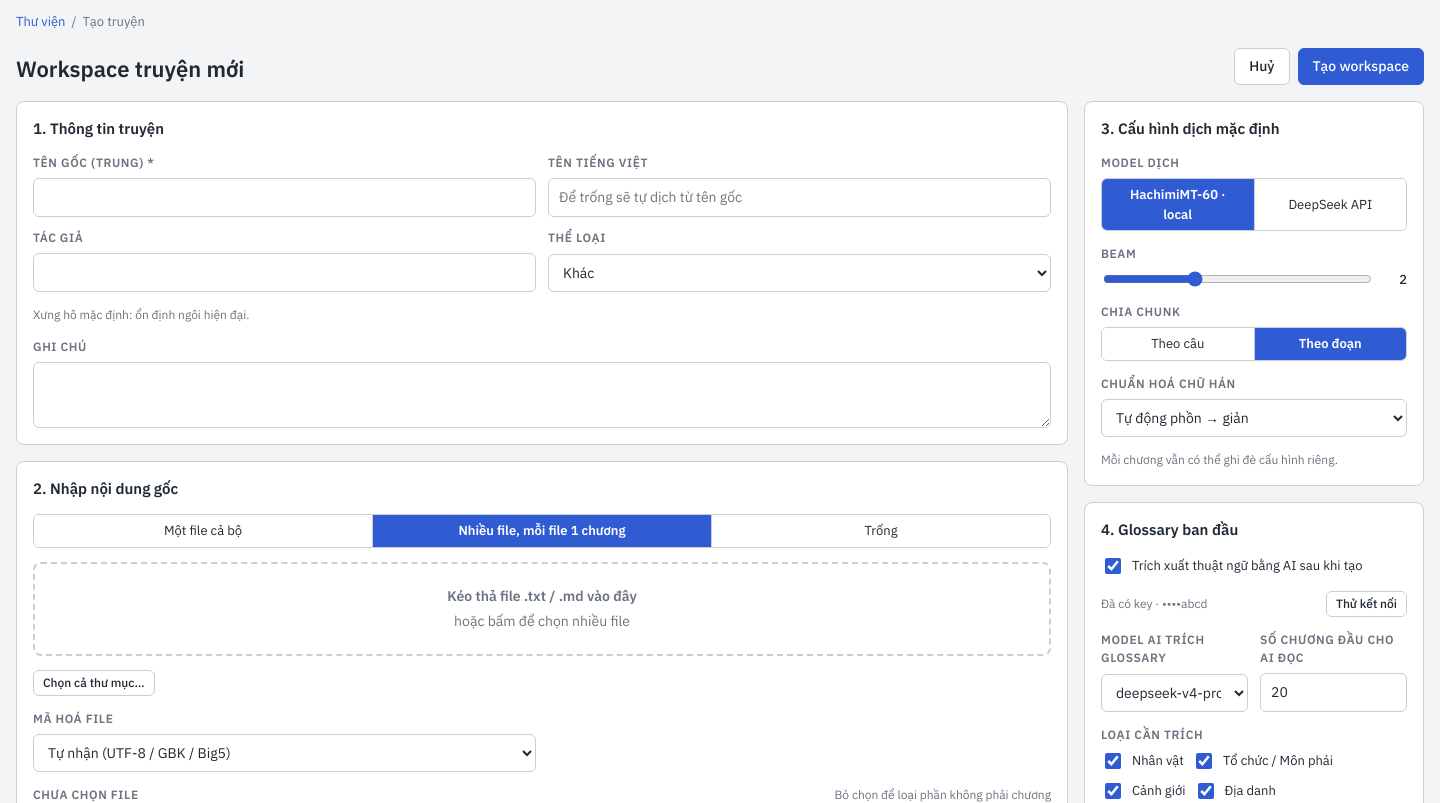
Thử kết nối với key sai báo lỗi 401 rõ ràng (AC-4.6)
Click the button "Thử kết nối": [1366, 604] box [1326,591,1407,617]
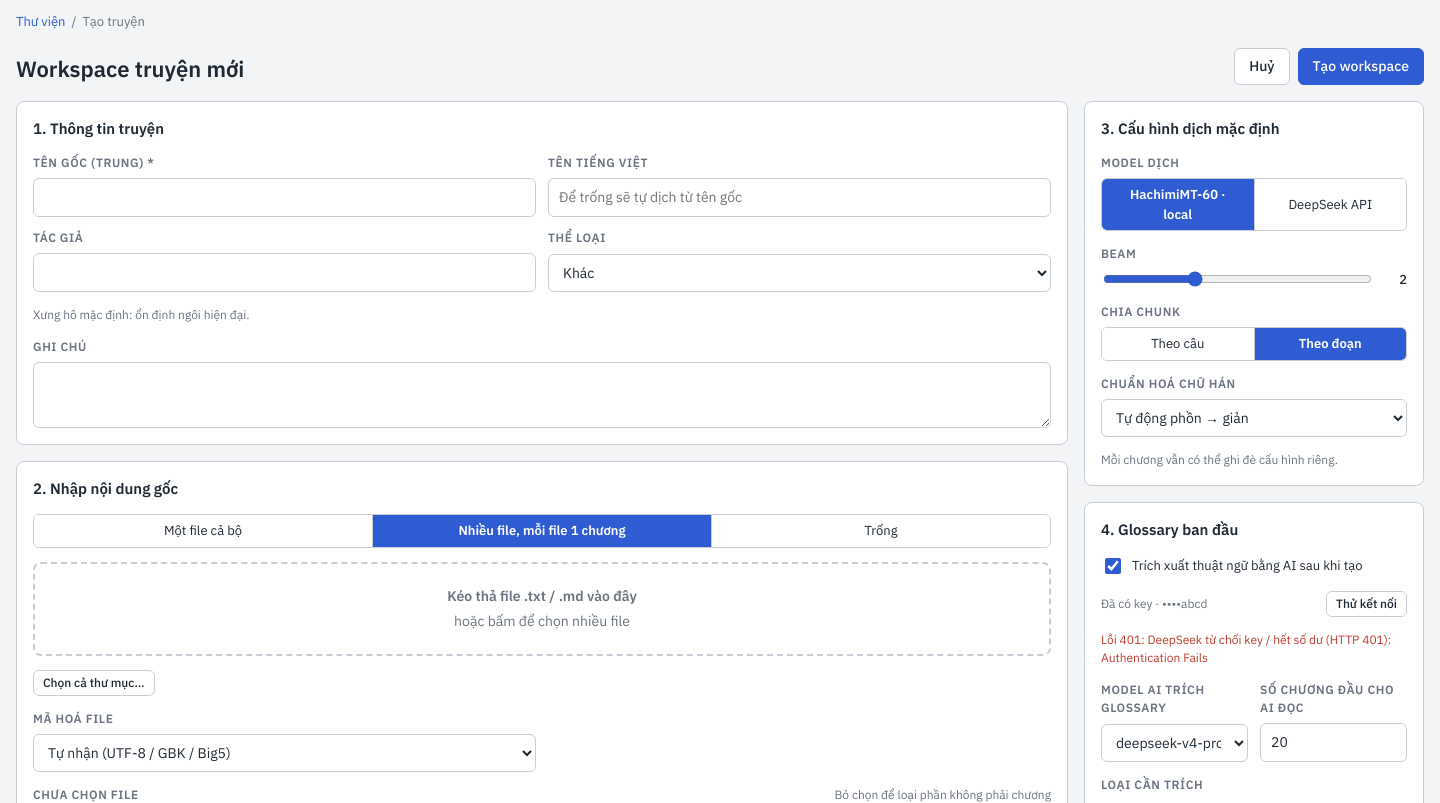
Now the text "Lỗi 401: DeepSeek từ chối key / hết số dư (HTTP 401): Authentication Fails" is shown, box [1101,631,1407,667]
